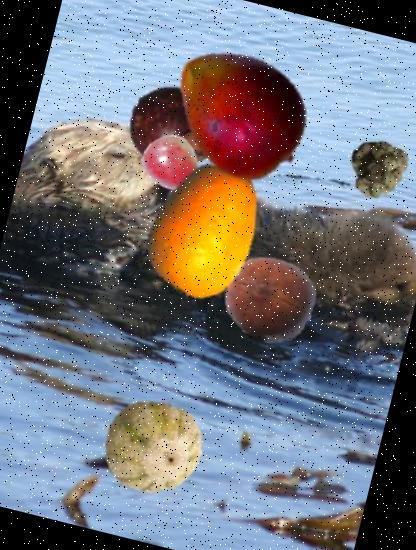Cantaloupe: (93, 387, 213, 508)
Cauliflower: (339, 133, 413, 207)
Cherry: (137, 128, 206, 197)
Kumquats: (126, 151, 286, 312)
Mango: (149, 23, 328, 202)
Mangostan: (114, 72, 235, 193)
Nut: (214, 242, 326, 354)
